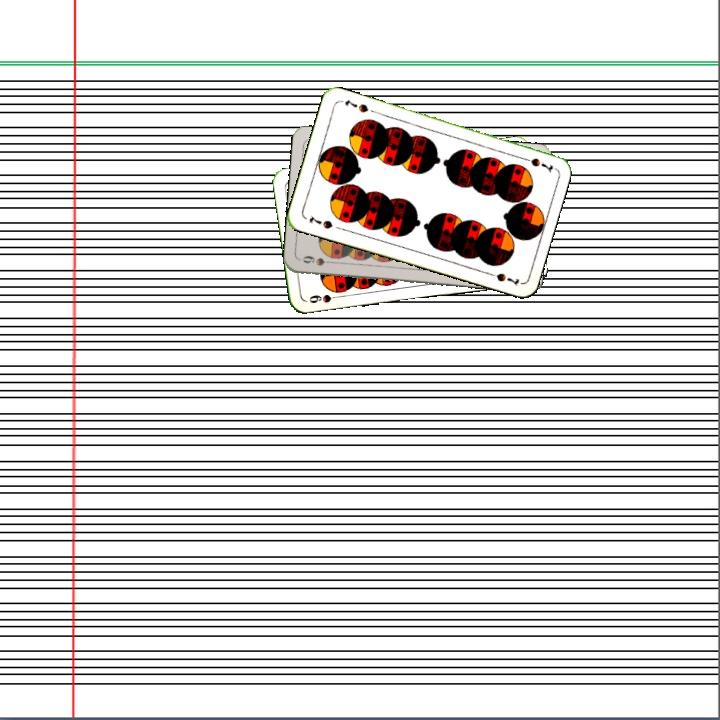S7: (516, 153, 555, 175), (305, 211, 335, 231)
S9: (298, 252, 338, 268), (305, 290, 344, 306)
